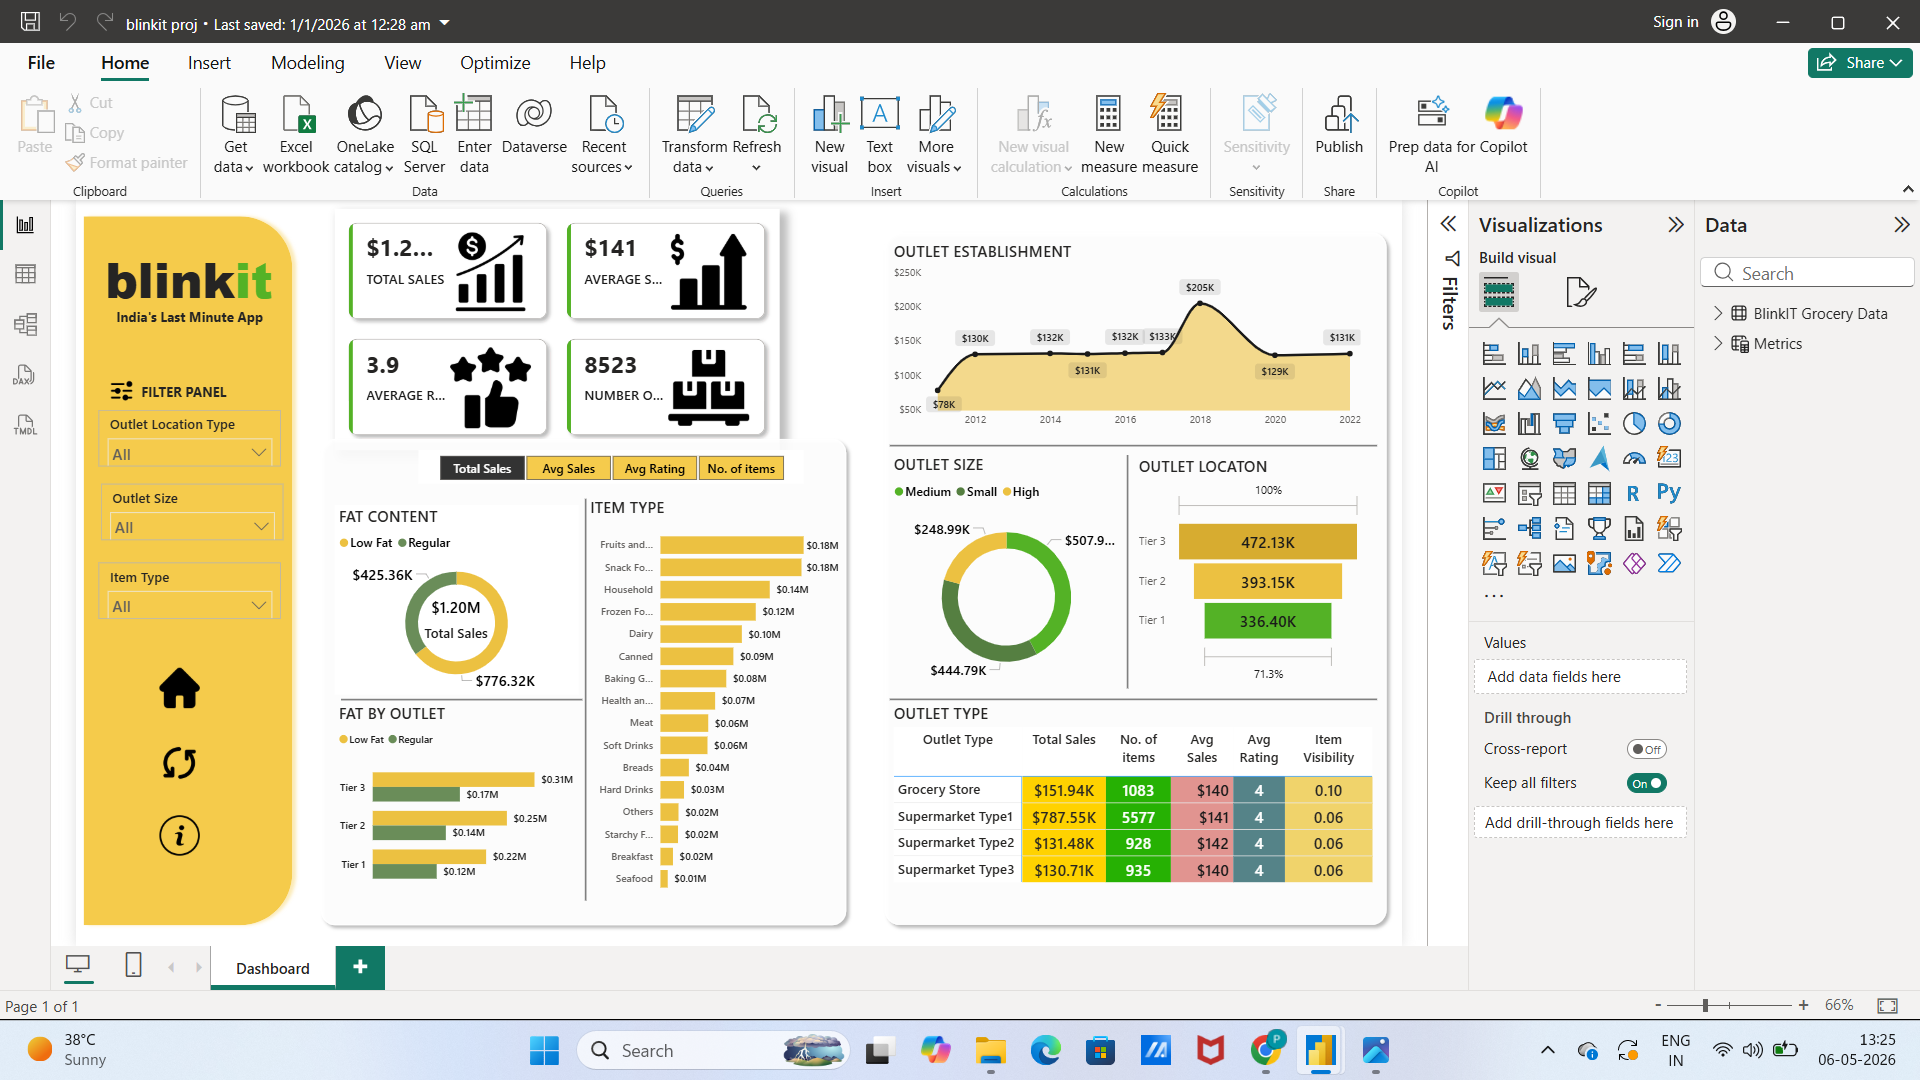

Layout of this report page (visuals, bound fields, positions):
{"tool":"powerbi","page":{"name":"Dashboard","canvas":[1600,900],"ordinal":0},"visuals":[{"type":"shape","box":[0,10,270,873.3],"z":0},{"type":"textbox","box":[30,48.6,232.9,95.7],"z":1000},{"type":"textbox","box":[44.3,125.7,205.7,37.1],"z":2000},{"type":"cardVisual","fields":{"Data":["BlinkIT Grocery Data.Total Sales","BlinkIT Grocery Data.Avg Sales","BlinkIT Grocery Data.Avg Rating","BlinkIT Grocery Data.Number of items"]},"box":[312.2,10.6,536.9,291.1],"z":3000},{"type":"shape","box":[286.7,278.3,651.7,605],"z":4000},{"type":"donutChart","title":"FAT CONTENT","fields":{"Y":["BlinkIT Grocery Data.Total Sales"],"Category":["BlinkIT Grocery Data.Item Fat Content"]},"box":[311.7,367.3,294.3,228.6],"z":5000},{"type":"slicer","fields":{"Values":["Metrics.Metrics"]},"box":[413.2,301.6,464.5,40.7],"z":6000},{"type":"card","fields":{"Values":["BlinkIT Grocery Data.Total Sales"]},"box":[406.7,456.7,103.3,95],"z":7000},{"type":"clusteredBarChart","title":"FAT BY OUTLET","fields":{"Y":["BlinkIT Grocery Data.Total Sales"],"Category":["BlinkIT Grocery Data.Outlet Location Type"],"Series":["BlinkIT Grocery Data.Item Fat Content"]},"box":[311.7,606.7,295,238.3],"z":8000},{"type":"shape","box":[320,580,291.4,44.3],"z":9000},{"type":"shape","box":[595,360,38.3,485],"z":10000},{"type":"barChart","title":"ITEM TYPE","fields":{"Y":["BlinkIT Grocery Data.Total Sales"],"Category":["BlinkIT Grocery Data.Item Type"]},"box":[615,356.7,310,488.3],"z":11000},{"type":"shape","box":[966.7,30,623.3,853.3],"z":12000},{"type":"lineChart","title":"OUTLET ESTABLISHMENT","fields":{"Category":["BlinkIT Grocery Data.Outlet Establishment Year"],"Y":["BlinkIT Grocery Data.Total Sales"]},"box":[981.7,48.3,573.3,235],"z":13000},{"type":"shape","box":[981.7,279,588.1,34.7],"z":14000},{"type":"donutChart","title":"OUTLET SIZE","fields":{"Y":["BlinkIT Grocery Data.Total Sales"],"Category":["BlinkIT Grocery Data.Outlet Size"]},"box":[981.7,306.1,282,289.5],"z":15000},{"type":"shape","box":[1248.3,308.3,40,281.7],"z":16000},{"type":"funnel","title":"OUTLET LOCATON","fields":{"Y":["Sum(BlinkIT Grocery Data.Sales)"],"Category":["BlinkIT Grocery Data.Outlet Location Type"]},"box":[1276.7,308.3,278.3,280],"z":17000},{"type":"shape","box":[981.7,585.1,588.1,34.7],"z":18000},{"type":"pivotTable","title":"OUTLET TYPE","fields":{"Rows":["BlinkIT Grocery Data.Outlet Type"],"Values":["BlinkIT Grocery Data.Total Sales","BlinkIT Grocery Data.No. of items","BlinkIT Grocery Data.Avg Sales","BlinkIT Grocery Data.Avg Rating","Avg(BlinkIT Grocery Data.Item Visibility)"]},"box":[981.7,606.7,588.3,238.3],"z":19000},{"type":"slicer","fields":{"Values":["BlinkIT Grocery Data.Outlet Location Type"]},"box":[26.7,253.3,220,68.3],"z":20000},{"type":"slicer","fields":{"Values":["BlinkIT Grocery Data.Outlet Size"]},"box":[30,341.7,220,68.3],"z":21000},{"type":"slicer","fields":{"Values":["BlinkIT Grocery Data.Item Type"]},"box":[26.7,436.7,220,68.3],"z":22000},{"type":"textbox","box":[74.2,215.7,123.7,37.7],"z":23000},{"type":"image","box":[95,559.5,60.3,58.8],"z":24000},{"type":"image","box":[36.5,206.6,37.7,46.7],"z":25000},{"type":"image","box":[95,650,60.3,58.8],"z":26000},{"type":"image","box":[95,737.4,60.3,58.8],"z":28000}]}

Visuals, with their boxes on the page's 1600x900 design canvas (x1, y1, x2, y2). These are canvas units, not pixel positions in the 1920x1080 screenshot, which may show the page scaled, cropped or inside an application window:
shape: (x1=0, y1=10, x2=270, y2=883)
textbox: (x1=30, y1=49, x2=263, y2=144)
textbox: (x1=44, y1=126, x2=250, y2=163)
cardVisual - BlinkIT Grocery Data.Total Sales x BlinkIT Grocery Data.Avg Sales: (x1=312, y1=11, x2=849, y2=302)
shape: (x1=287, y1=278, x2=938, y2=883)
"FAT CONTENT" donutChart: (x1=312, y1=367, x2=606, y2=596)
slicer - Metrics.Metrics: (x1=413, y1=302, x2=878, y2=342)
card - BlinkIT Grocery Data.Total Sales: (x1=407, y1=457, x2=510, y2=552)
"FAT BY OUTLET" clusteredBarChart: (x1=312, y1=607, x2=607, y2=845)
shape: (x1=320, y1=580, x2=611, y2=624)
shape: (x1=595, y1=360, x2=633, y2=845)
"ITEM TYPE" barChart: (x1=615, y1=357, x2=925, y2=845)
shape: (x1=967, y1=30, x2=1590, y2=883)
"OUTLET ESTABLISHMENT" lineChart: (x1=982, y1=48, x2=1555, y2=283)
shape: (x1=982, y1=279, x2=1570, y2=314)
"OUTLET SIZE" donutChart: (x1=982, y1=306, x2=1264, y2=596)
shape: (x1=1248, y1=308, x2=1288, y2=590)
"OUTLET LOCATON" funnel: (x1=1277, y1=308, x2=1555, y2=588)
shape: (x1=982, y1=585, x2=1570, y2=620)
"OUTLET TYPE" pivotTable: (x1=982, y1=607, x2=1570, y2=845)
slicer - BlinkIT Grocery Data.Outlet Location Type: (x1=27, y1=253, x2=247, y2=322)
slicer - BlinkIT Grocery Data.Outlet Size: (x1=30, y1=342, x2=250, y2=410)
slicer - BlinkIT Grocery Data.Item Type: (x1=27, y1=437, x2=247, y2=505)
textbox: (x1=74, y1=216, x2=198, y2=253)
image: (x1=95, y1=560, x2=155, y2=618)
image: (x1=36, y1=207, x2=74, y2=253)
image: (x1=95, y1=650, x2=155, y2=709)
image: (x1=95, y1=737, x2=155, y2=796)
